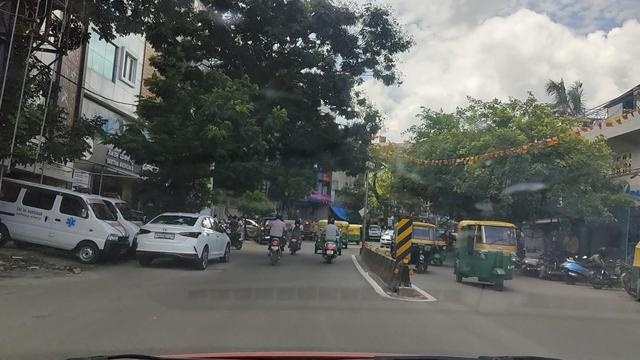LMV: (146, 207, 238, 276), (261, 213, 286, 265), (316, 218, 343, 262)
